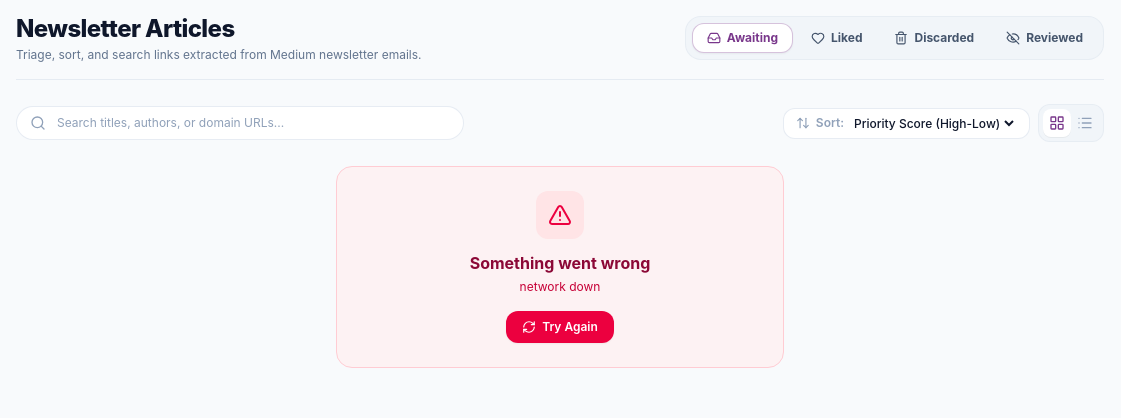
LinksPage › shows an error state and retries on demand
The image size is (1121, 418).
Expected: the text "network down" is shown, [520,279,600,294]
Step 1. Click the button "Try Again" → (560, 327), box [506,311,614,343]
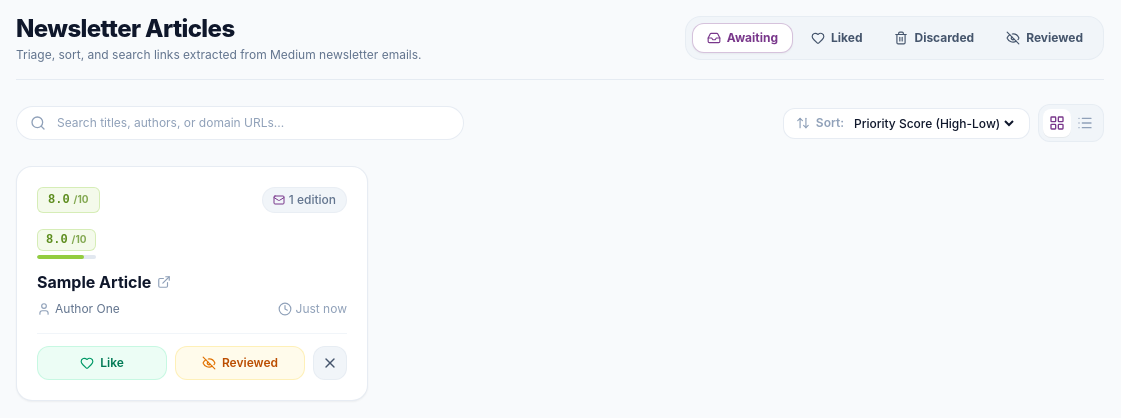
Result: the link "Sample Article" is shown at [37,271,171,293]
